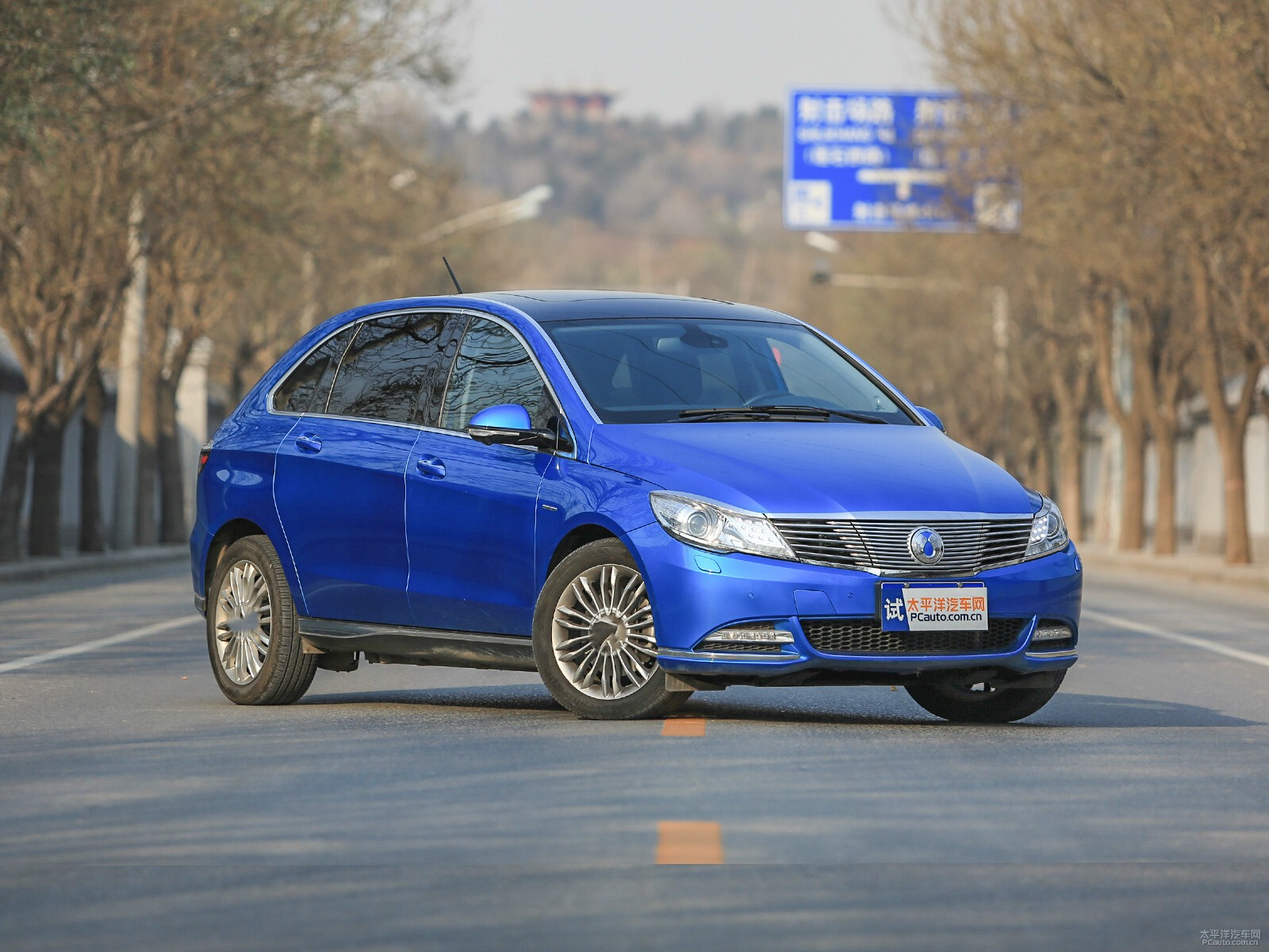DENZA: (912, 529, 943, 563)
